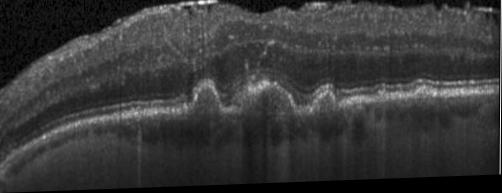intraretinal_cyst: (182, 7, 192, 16), (206, 6, 213, 15), (492, 17, 497, 29), (484, 16, 490, 23), (197, 6, 205, 11)
retinal_drusen: (241, 88, 294, 122), (193, 87, 220, 122), (314, 95, 333, 115), (414, 90, 434, 104), (374, 94, 388, 108)
